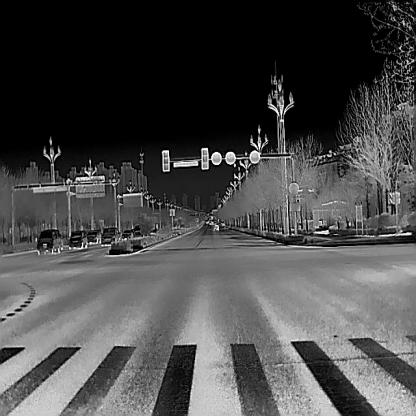car: (36, 228, 62, 255), (100, 226, 121, 245), (68, 229, 86, 249), (86, 227, 101, 243), (132, 224, 147, 238), (122, 228, 132, 239), (213, 224, 219, 232)
